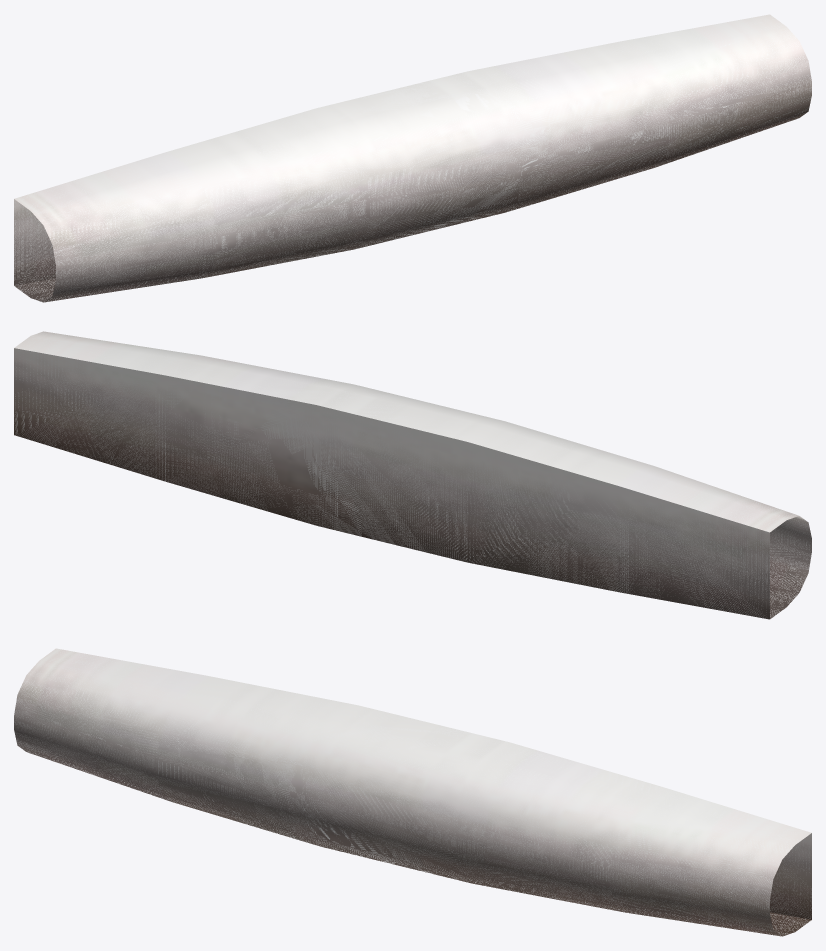
File: original-55.obj
3 views of the same model, one above another, from view 1: azimuth 30°, elevation 25°; view 2: azimuth 150°, elevation 25°; view 3: azimuth 330°, elevation 25° (orthographic).
Parts seen in each view (by area): view 1: _7026_2_1/_7026_2/mesh38/mesh38-geometry#mesh38-geometry; view 2: _7026_2_1/_7026_2/mesh38/mesh38-geometry#mesh38-geometry; view 3: _7026_2_1/_7026_2/mesh38/mesh38-geometry#mesh38-geometry.
Part boxes in pixels (box(x1,y1,x2,y2)): _7026_2_1/_7026_2/mesh38/mesh38-geometry#mesh38-geometry: box(14, 14, 811, 302); _7026_2_1/_7026_2/mesh38/mesh38-geometry#mesh38-geometry: box(14, 331, 811, 619); _7026_2_1/_7026_2/mesh38/mesh38-geometry#mesh38-geometry: box(14, 648, 811, 936).
Bounding box in the file's own units: 0.1369 × 0.0209 × 0.0168.
Materials: 2 (1 with a texture image).
